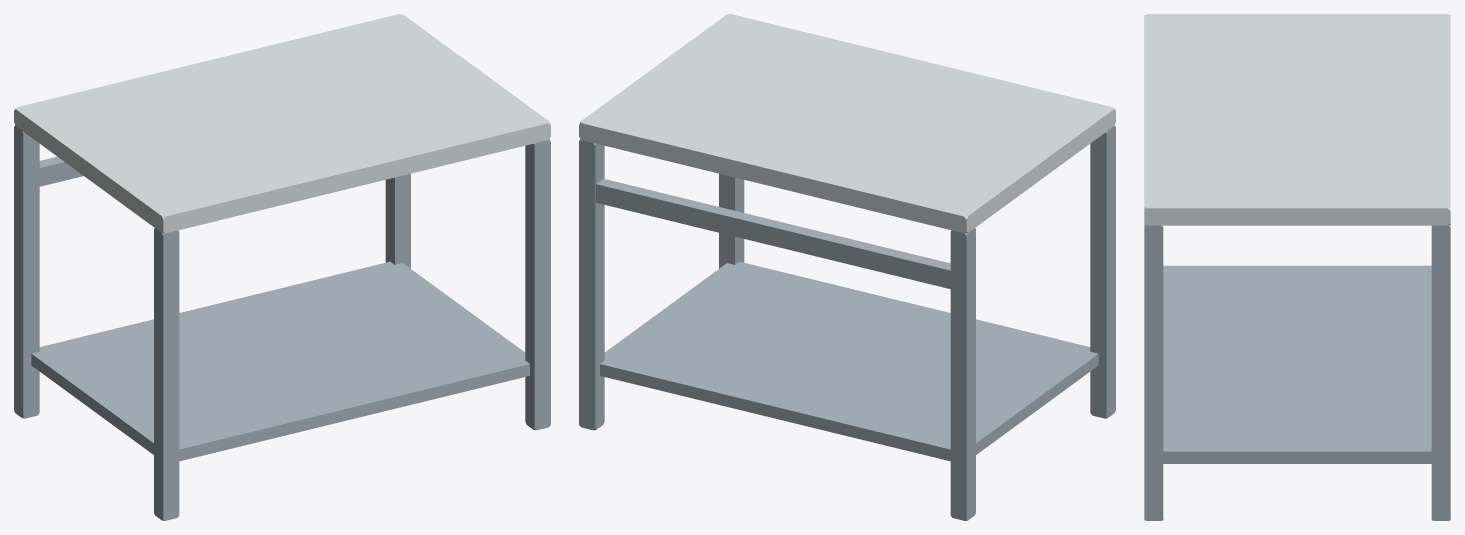
The model's file is KitchenCounter.glb.
The picture shows the model from 3 angles, left to right: view 1: azimuth 30°, elevation 25°; view 2: azimuth 150°, elevation 25°; view 3: azimuth 270°, elevation 25°; orthographic projection. The views are drawn at different scales.
Visible parts, largest first — view 1: KitchenCounter; view 2: KitchenCounter; view 3: KitchenCounter.
Part boxes in pixels (<box>): KitchenCounter: <box>14,14,550,520</box>; KitchenCounter: <box>579,14,1115,520</box>; KitchenCounter: <box>1144,14,1450,520</box>.
Size of the model in its own units: 1.2 by 0.9 by 0.8.
